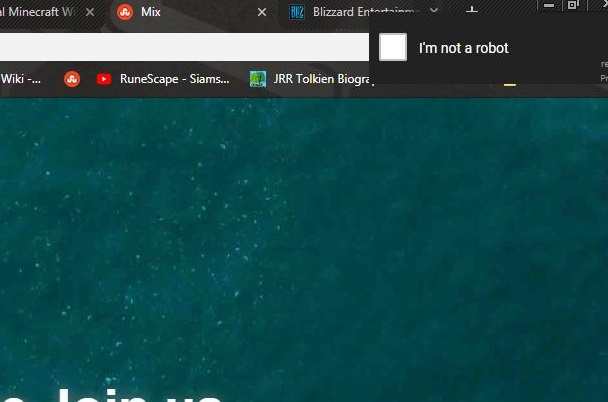captcha: (379, 32, 511, 62)
